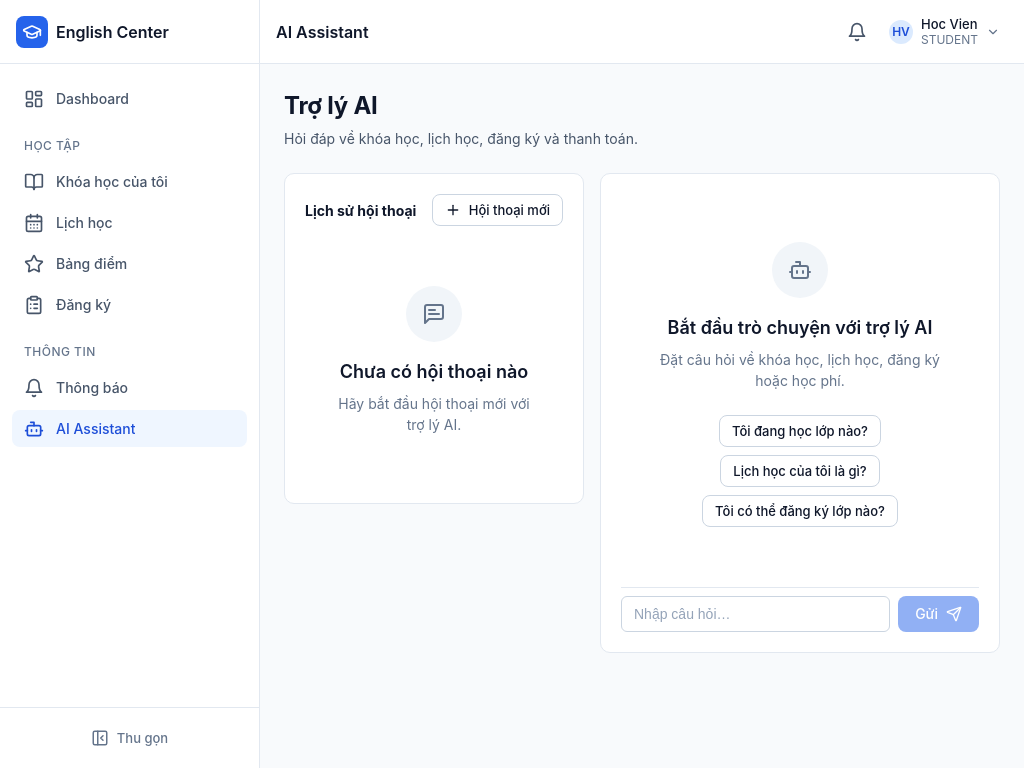
Test case: AiChatPage › creates a new conversation entry when the API returns a new conversationId
Expected: the heading "Chưa có hội thoại nào" is shown, [340,358,528,385]
Type "Câu hỏi đầu tiên của tôi" into the field named "Nhập câu hỏi cho trợ lý AI" at (756, 614), box [621,596,890,632]
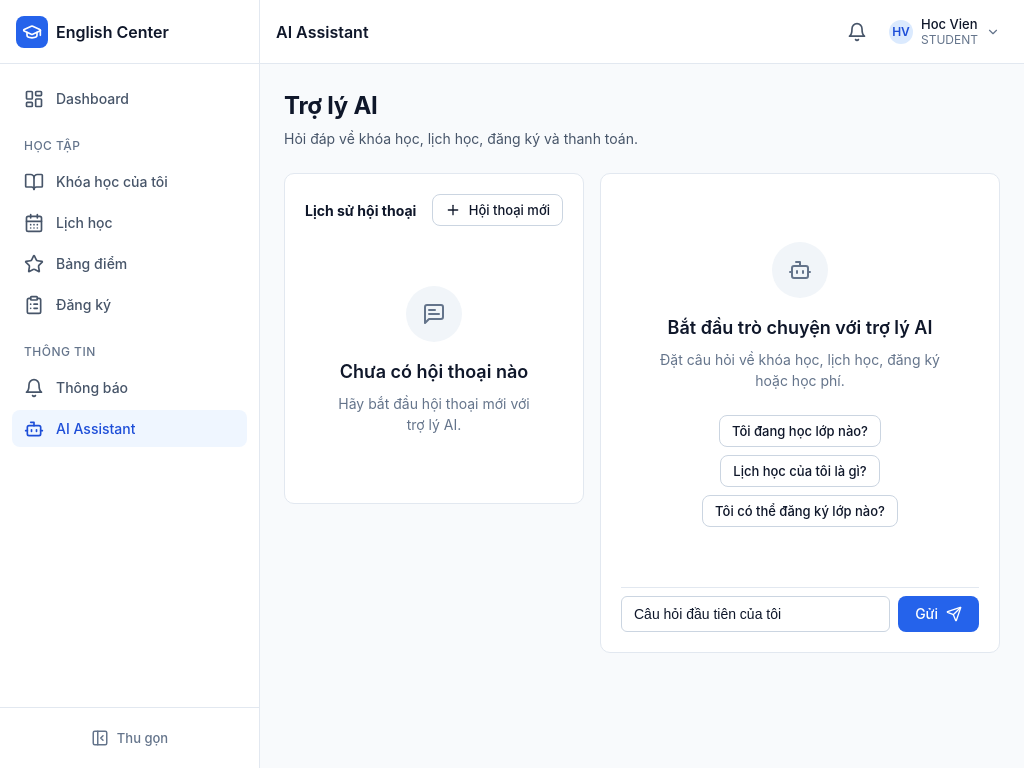
Click the button "Gửi" at (939, 614), box [898,596,979,632]
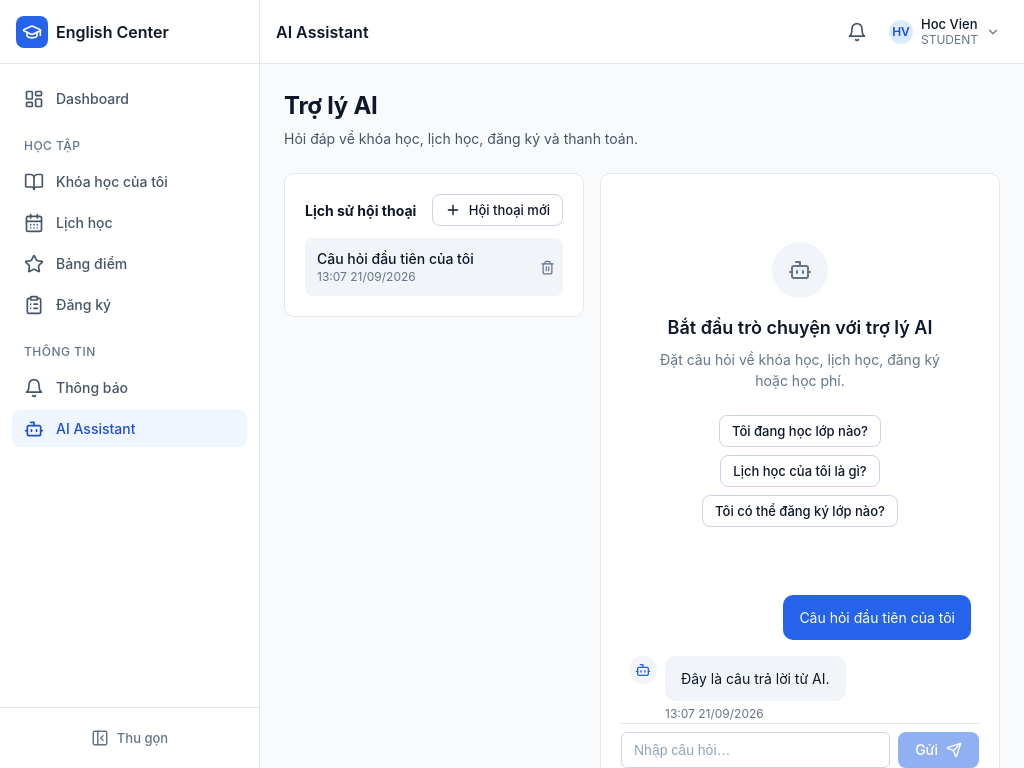
Expected: the text "Đây là câu trả lời từ AI." is shown, [665,656,846,701]
Expected: the button "Câu hỏi đầu tiên của tôi" is shown, [305,238,527,296]
